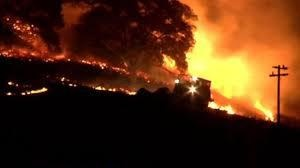fire: (162, 12, 273, 118), (254, 99, 275, 120)
